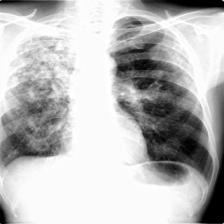tuberculosis: (1, 0, 214, 224)
